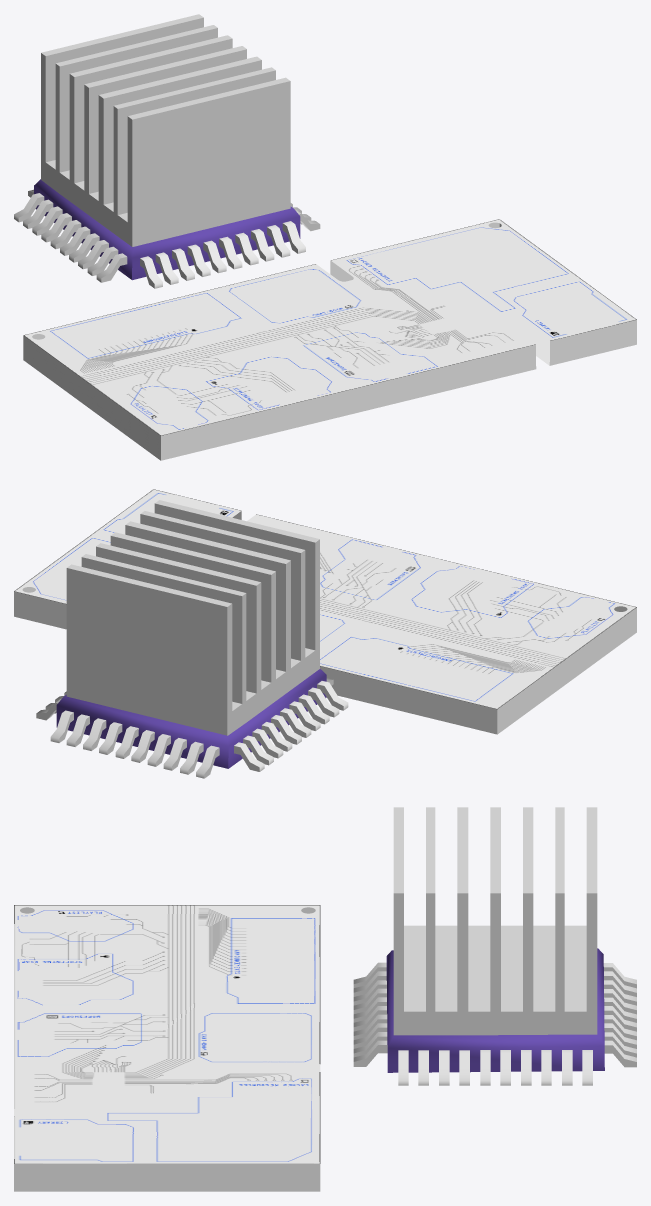
File: boardAndChip.fbx
The picture shows the model from 3 angles, top to bottom: view 1: azimuth 30°, elevation 25°; view 2: azimuth 150°, elevation 25°; view 3: azimuth 270°, elevation 25°; orthographic projection. The views are drawn at different scales.
Parts seen in each view (by area): view 1: CARTE, Cube, Cube.1, Cube.3.4, Cube.3, Cube.5, Cube.6, Cube.4; view 2: CARTE, Cube, Cube.1, Cube.3.4, Cube.3, Cube.6, Cube.4, Cube.5, Cube.15.2, Cube.9.2, Cube.10.2, Cube.16.2 (+10 smaller); view 3: CARTE, Cube, Cube.3.4, Cube.1, Cube.4, Cube.5, Cube.3, Cube.6.
Boxes of the visible parts, box(x1,y1,x2,y2) form: CARTE: box(23, 219, 636, 460); Cube: box(41, 14, 290, 246); Cube.1: box(45, 17, 217, 179); Cube.3.4: box(34, 179, 300, 280); Cube.3: box(74, 38, 232, 190); Cube.5: box(103, 60, 261, 211); Cube.6: box(117, 70, 275, 221); Cube.4: box(89, 49, 246, 200); CARTE: box(14, 489, 636, 734); Cube: box(66, 500, 319, 735); Cube.1: box(81, 546, 256, 710); Cube.3.4: box(56, 669, 326, 768); Cube.3: box(110, 536, 271, 689); Cube.6: box(154, 503, 315, 657); Cube.4: box(125, 525, 285, 678); Cube.5: box(140, 514, 300, 667); Cube.15.2: box(180, 741, 203, 774); Cube.9.2: box(83, 718, 106, 750); Cube.10.2: box(99, 722, 122, 754); Cube.16.2: box(196, 745, 219, 778); CARTE: box(14, 905, 320, 1191); Cube: box(393, 807, 597, 1035); Cube.3.4: box(386, 948, 604, 1072); Cube.1: box(533, 925, 586, 1011); Cube.4: box(468, 925, 490, 1011); Cube.5: box(435, 925, 457, 1011); Cube.3: box(501, 925, 522, 1011); Cube.6: box(404, 925, 425, 1011).
Size of the model in its own units: 100 by 36.52 by 102.
Materials: 3 (1 with a texture image).
